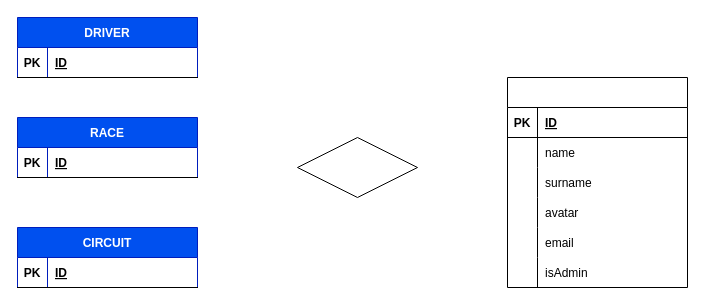
Image size: 705x305. Some labels were removed from this diagram. Each missing label, with the box of its shape:
Relationship: (296, 136, 418, 198)
USER: (506, 76, 688, 288)
